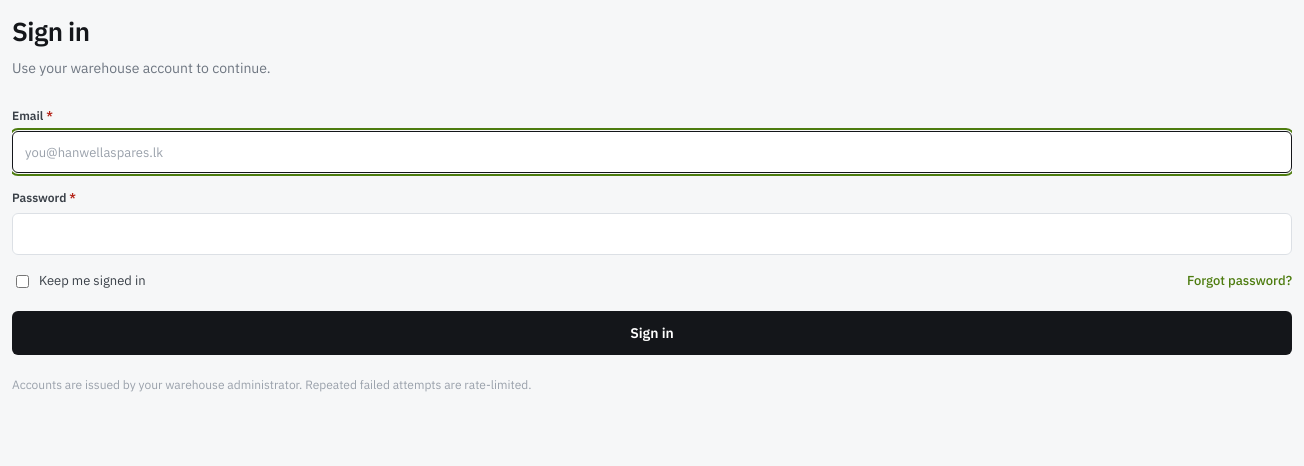
it: LoginPage › shows a generic alert for a network failure
The width and height of the screenshot is (1304, 466).
In the field labelled "Email": (652, 152) [12,131,1292,173], type "sadeeka@hanwellaspares.lk"
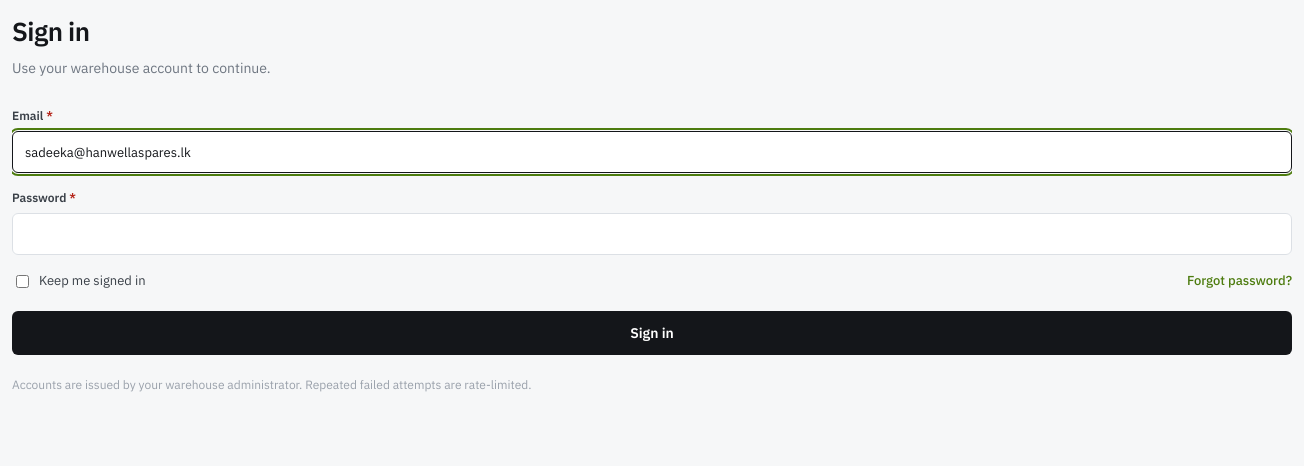
In the password field labelled "Password": (652, 234) [12,213,1292,255], type "password"
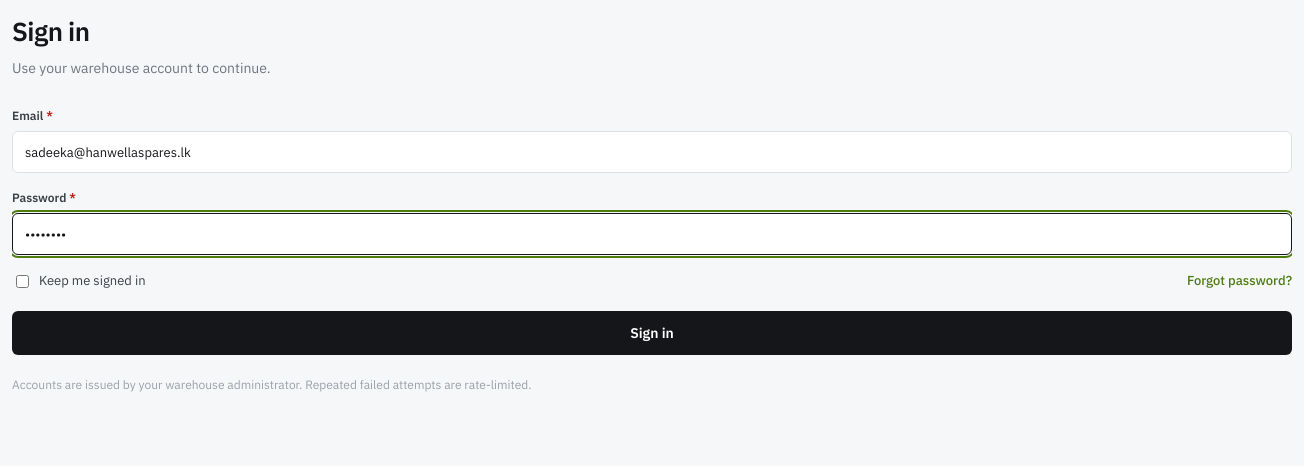
Click the button "Sign in": (652, 333) [12,311,1292,355]
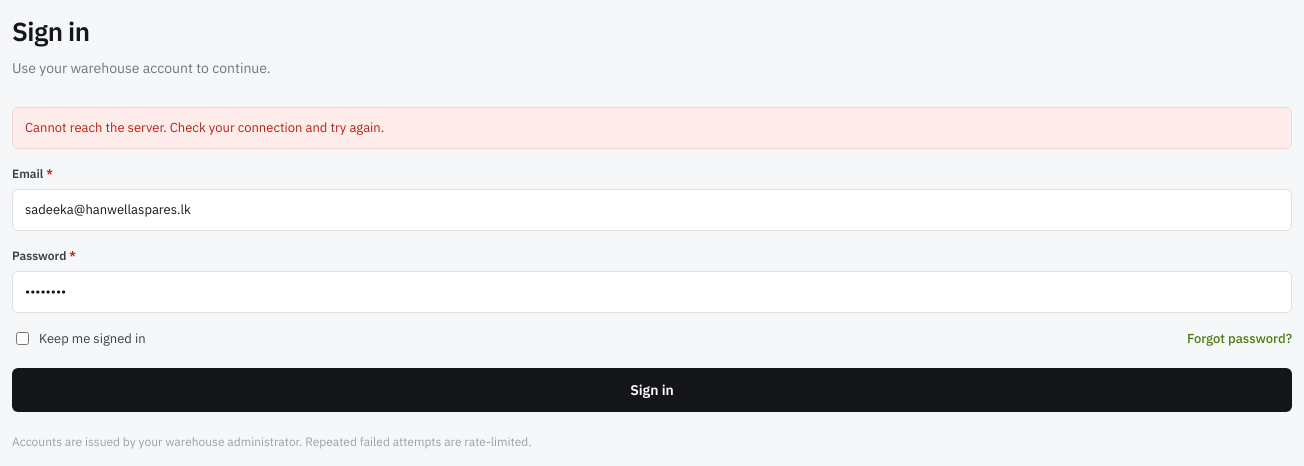
Expected: the message shows "Cannot reach the server", [25,119,384,136]
